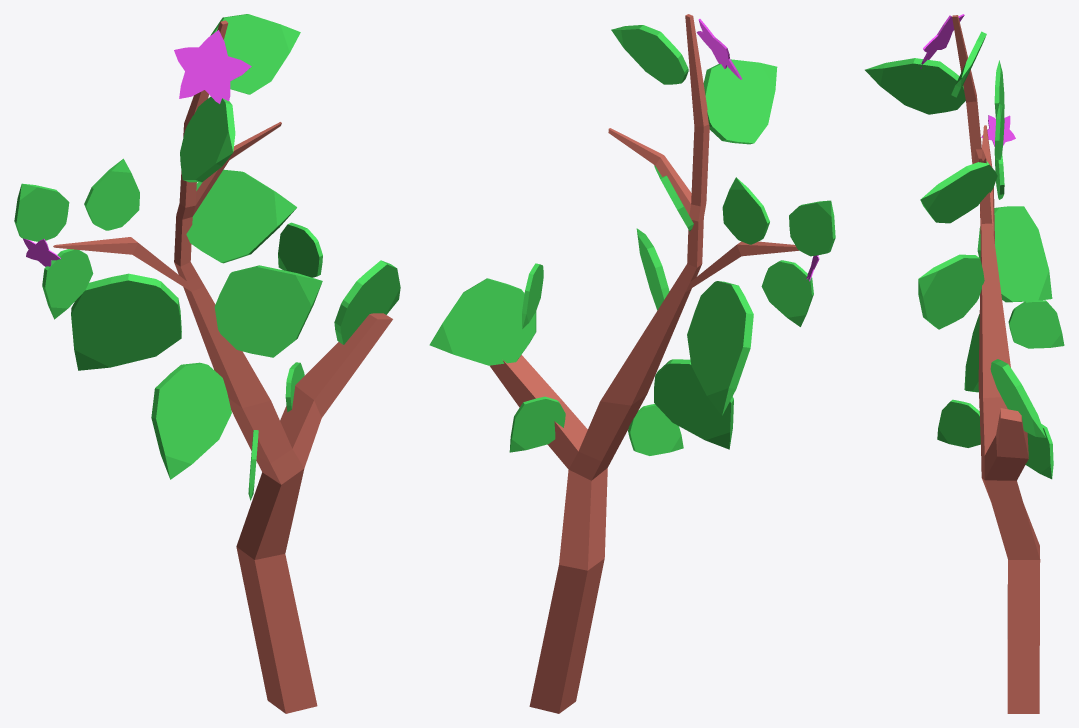
Rendered from potato_plant.glb.
The picture shows the model from 3 angles, left to right: view 1: azimuth 30°, elevation 25°; view 2: azimuth 150°, elevation 25°; view 3: azimuth 270°, elevation 25°; orthographic projection. The views are drawn at different scales.
Visible parts, largest first — view 1: Cube.015, Cube.021, Cube.024, Cube.022, Cube.027, Cube.017, Cube.028, Cylinder, Cube.016, Cube.020, Cube.026, Cube.025 (+1 smaller); view 2: Cube.015, Cube.016, Cube.021, Cube.028, Cube.022, Cube.017, Cube.025, Cube.018, Cube.026, Cube.020, Cube.023, Cube.024 (+2 smaller); view 3: Cube.015, Cube.021, Cube.028, Cube.024, Cube.027, Cube.019, Cube.016, Cube.023, Cube.018, Cube.022, Cylinder, Cube.017 (+4 smaller).
Boxes of the visible parts, x1,y1,x2,y2 form: Cube.015: (53, 20, 392, 713); Cube.021: (71, 273, 181, 370); Cube.024: (214, 265, 322, 357); Cube.022: (151, 362, 231, 479); Cube.027: (186, 169, 296, 263); Cube.017: (210, 14, 300, 94); Cube.028: (180, 96, 235, 182); Cylinder: (174, 30, 251, 103); Cube.016: (334, 260, 400, 344); Cube.020: (84, 158, 139, 230); Cube.026: (14, 183, 69, 241); Cube.025: (42, 249, 93, 319); Cube.015: (490, 14, 798, 713); Cube.016: (429, 278, 536, 365); Cube.021: (687, 281, 753, 415); Cube.028: (703, 59, 777, 144); Cube.022: (654, 359, 733, 449); Cube.017: (611, 25, 688, 84); Cube.025: (761, 260, 813, 326); Cube.018: (509, 396, 565, 452); Cube.026: (789, 200, 835, 256); Cube.020: (722, 177, 769, 244); Cube.023: (628, 404, 683, 455); Cube.024: (636, 228, 669, 310); Cube.015: (952, 15, 1040, 713); Cube.021: (977, 206, 1052, 302); Cube.028: (865, 58, 965, 114); Cube.024: (918, 254, 984, 329); Cube.027: (920, 161, 997, 223); Cube.019: (1008, 300, 1064, 348); Cube.016: (990, 359, 1045, 437); Cube.023: (937, 399, 980, 447); Cube.018: (1025, 424, 1053, 479); Cube.022: (964, 314, 979, 392); Cylinder: (920, 14, 964, 68); Cube.017: (951, 31, 986, 97).
Size of the model in its own units: 0.5422 by 0.9323 by 0.2618.
